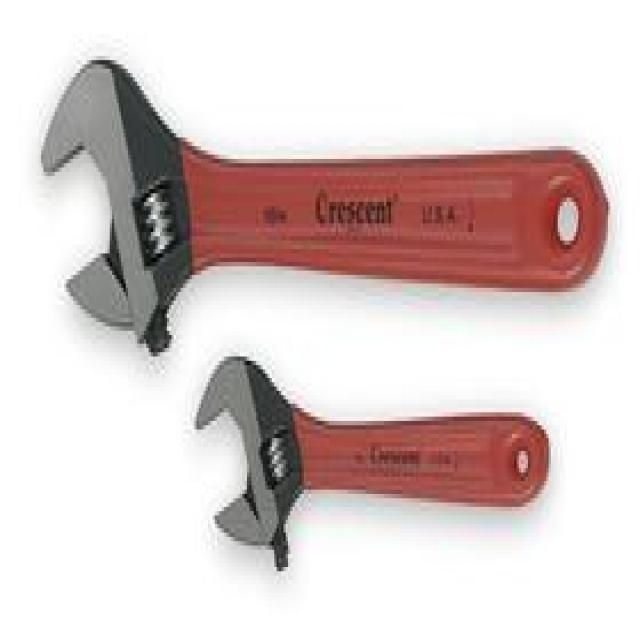wrench: (33, 46, 616, 368), (187, 346, 557, 580)
